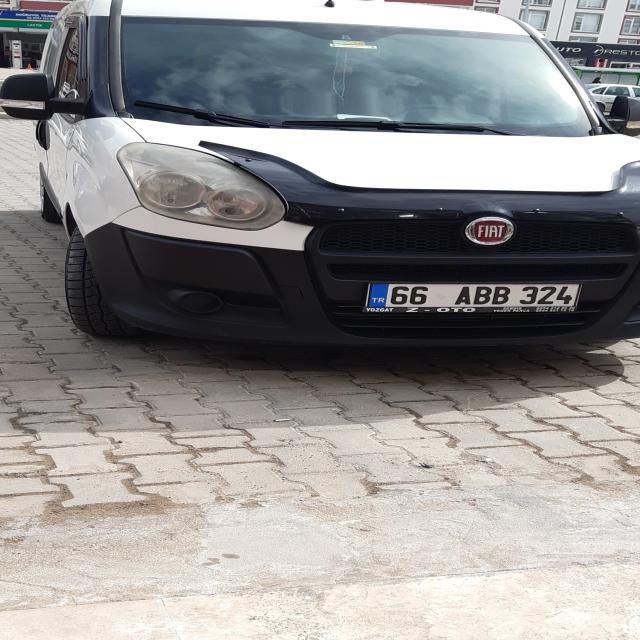plate: (366, 283, 580, 308)
